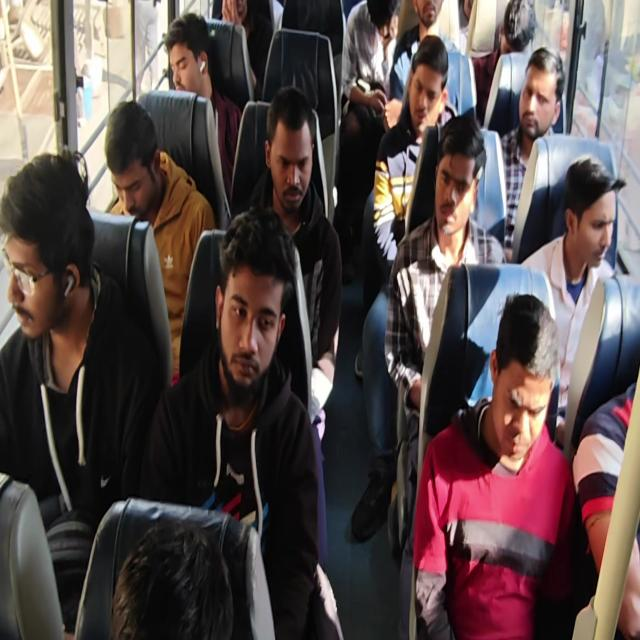person: (1, 1, 638, 638), (139, 206, 338, 638), (1, 150, 160, 636), (383, 112, 507, 637), (412, 291, 581, 638), (350, 34, 456, 542), (243, 85, 343, 568), (103, 99, 216, 386), (520, 154, 626, 446), (333, 0, 401, 279), (372, 35, 452, 270), (572, 376, 639, 639), (110, 515, 234, 639), (164, 12, 242, 206), (497, 45, 566, 258), (384, 0, 460, 132), (471, 0, 536, 127), (218, 0, 274, 98)
